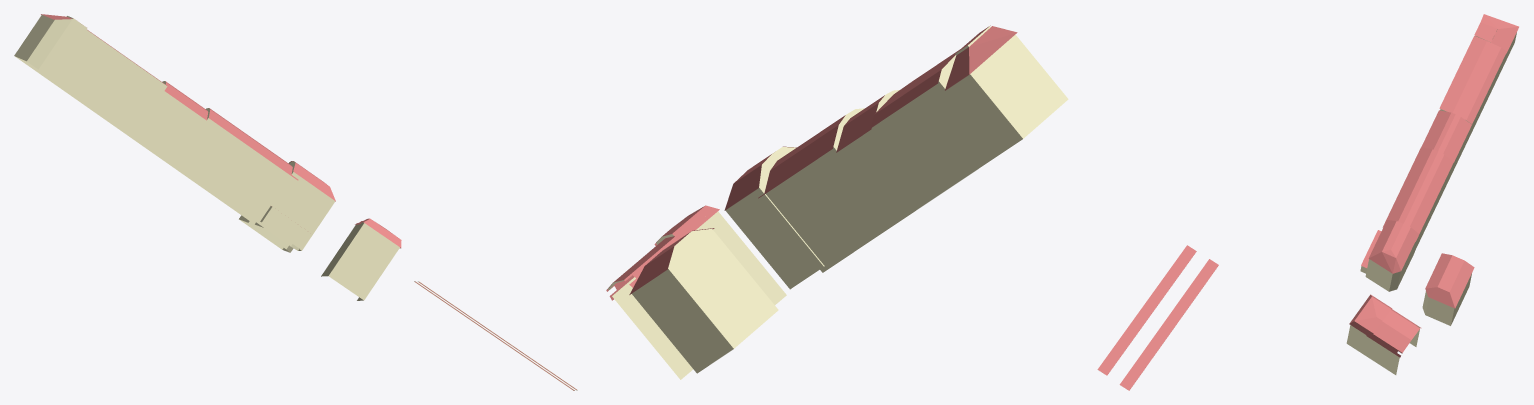
File: tile_090.glb
3 views of the same model, side by side, from view 1: azimuth 30°, elevation 25°; view 2: azimuth 150°, elevation 25°; view 3: azimuth 270°, elevation 25° (orthographic). The views are drawn at different scales.
Visible parts, largest first — view 1: Batched_Building_ID_5D1E2D6C-6381-4A11-B267-D047C6D2D1E7 (×2); view 2: Batched_Building_ID_5D1E2D6C-6381-4A11-B267-D047C6D2D1E7 (×2); view 3: Batched_Building_ID_5D1E2D6C-6381-4A11-B267-D047C6D2D1E7 (×2).
Part boxes in pixels (left/top/right/bottom): Batched_Building_ID_5D1E2D6C-6381-4A11-B267-D047C6D2D1E7 (×2): left=14, top=14, right=577, bottom=390; Batched_Building_ID_5D1E2D6C-6381-4A11-B267-D047C6D2D1E7 (×2): left=606, top=25, right=1068, bottom=379; Batched_Building_ID_5D1E2D6C-6381-4A11-B267-D047C6D2D1E7 (×2): left=1097, top=14, right=1518, bottom=390.
Bounding box in the file's own units: 154 × 132 × 196.
